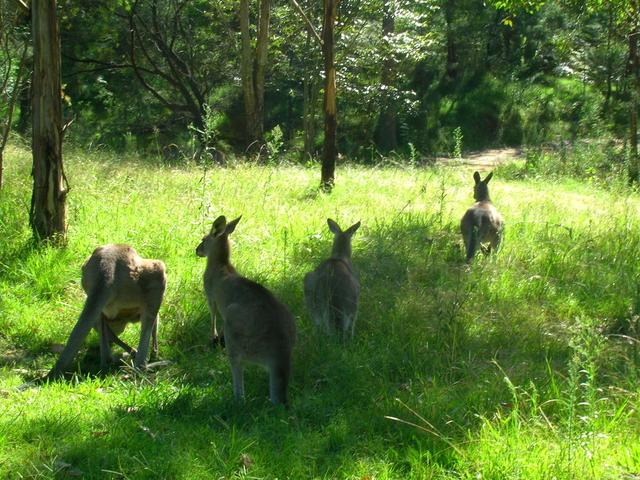kangaroo: (184, 207, 322, 442), (312, 194, 381, 386)
